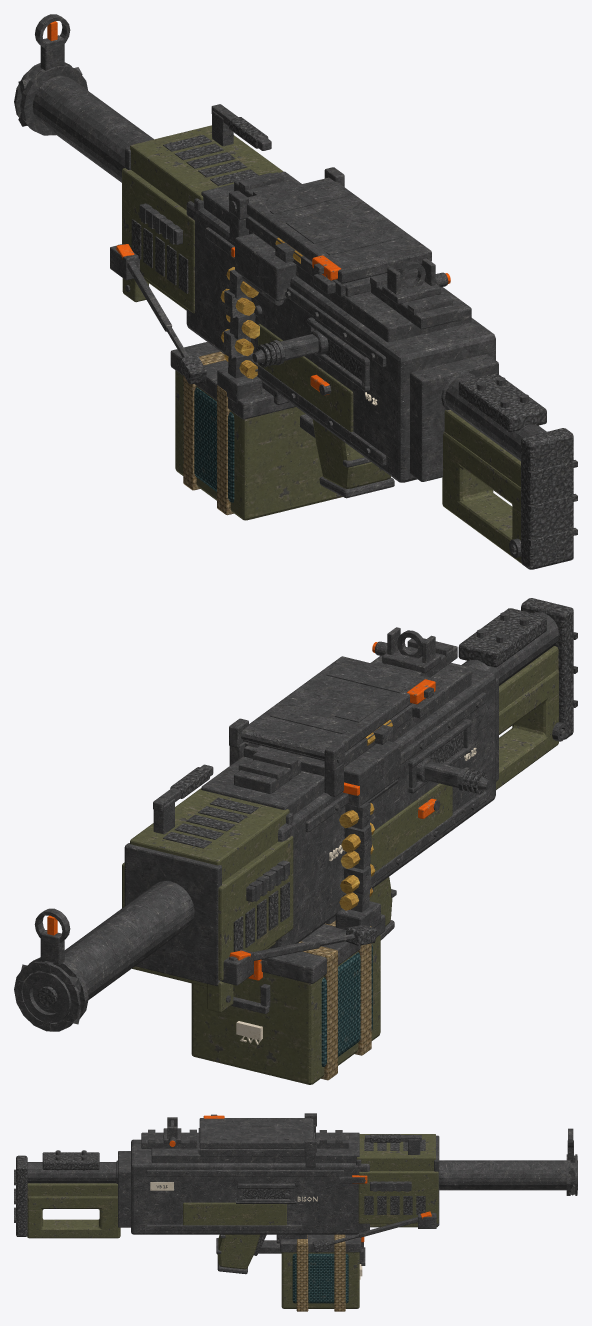
Rendered from bison.gltf.
3 views of the same model, one above another, from view 1: azimuth 30°, elevation 25°; view 2: azimuth 150°, elevation 25°; view 3: azimuth 270°, elevation 25° (orthographic). The views are drawn at different scales.
Parts seen in each view (by area): view 1: body, mag, Feed tray cover, bolt, Feed cover pawl housing; view 2: body, mag, Feed tray cover, bolt, Feed cover pawl housing; view 3: body, mag, Feed tray cover.
Boxes of the visible parts, <box> form: body: <box>14,14,577,569</box>; mag: <box>170,267,342,520</box>; Feed tray cover: <box>247,178,431,283</box>; bolt: <box>252,330,328,367</box>; Feed cover pawl housing: <box>286,216,338,243</box>; body: <box>14,598,577,1031</box>; mag: <box>191,802,385,1084</box>; Feed tray cover: <box>243,656,431,760</box>; bolt: <box>416,757,490,794</box>; Feed cover pawl housing: <box>334,695,386,722</box>; body: <box>14,1113,577,1274</box>; mag: <box>276,1234,365,1311</box>; Feed tray cover: <box>199,1118,311,1148</box>.
Size of the model in its own units: 0.2594 by 0.374 by 1.09.
8 materials, 8 textured.
